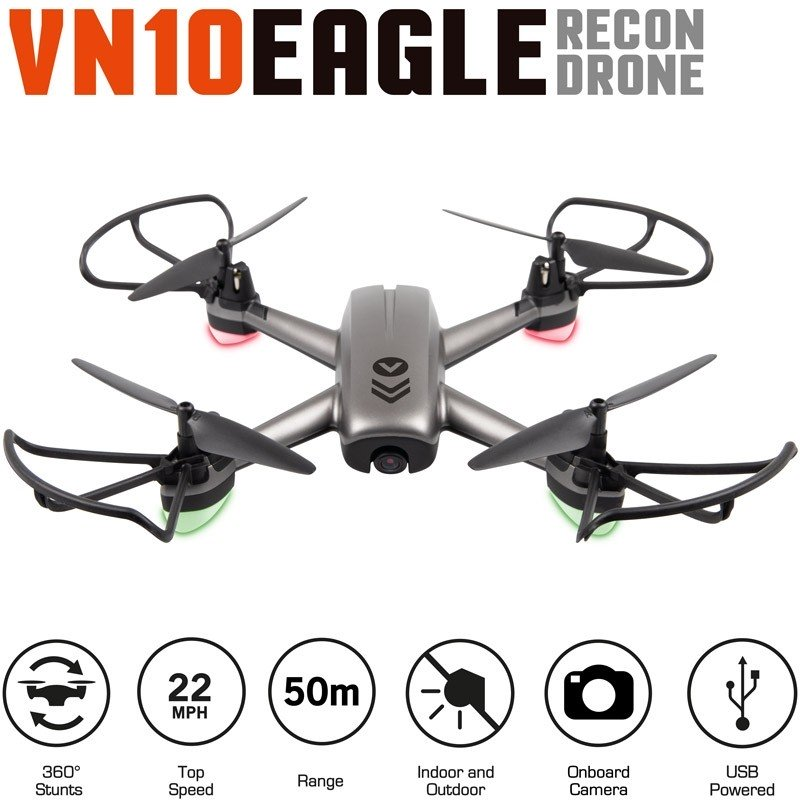drone: (2, 182, 800, 566)
